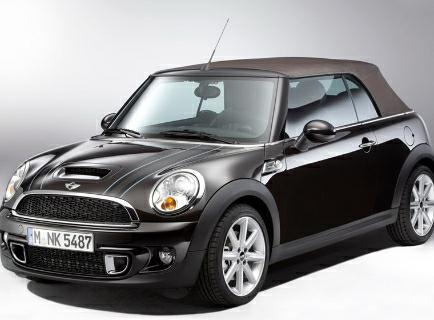MINI: (7, 40, 425, 301)
